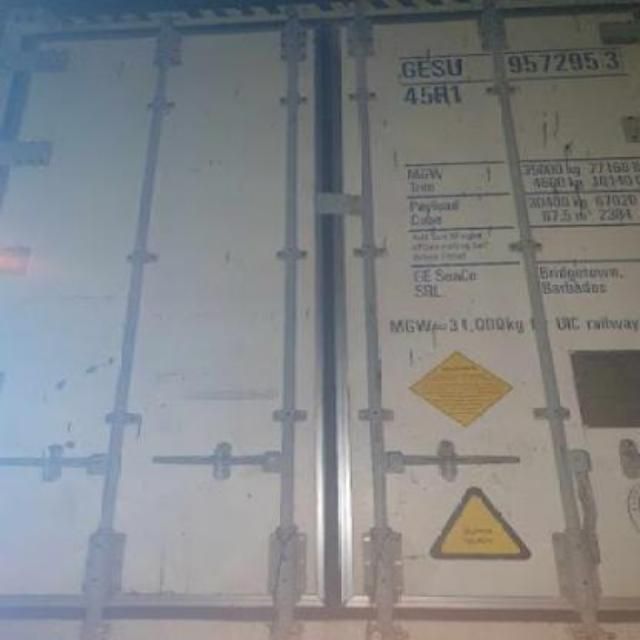2: (556, 49, 568, 75)
3: (604, 50, 622, 70)
5: (582, 50, 602, 72), (522, 54, 536, 76)
7: (534, 51, 556, 74)
9: (568, 52, 586, 74), (506, 54, 522, 76)
E: (416, 58, 432, 82)
G: (400, 60, 418, 80)
S: (430, 58, 448, 82)
U: (444, 56, 468, 80)
